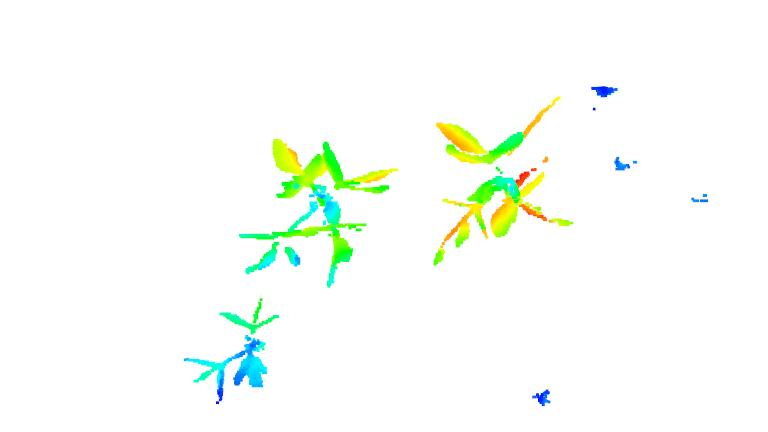mungbean: (421, 94, 573, 265), (236, 132, 400, 279), (183, 291, 281, 402)
